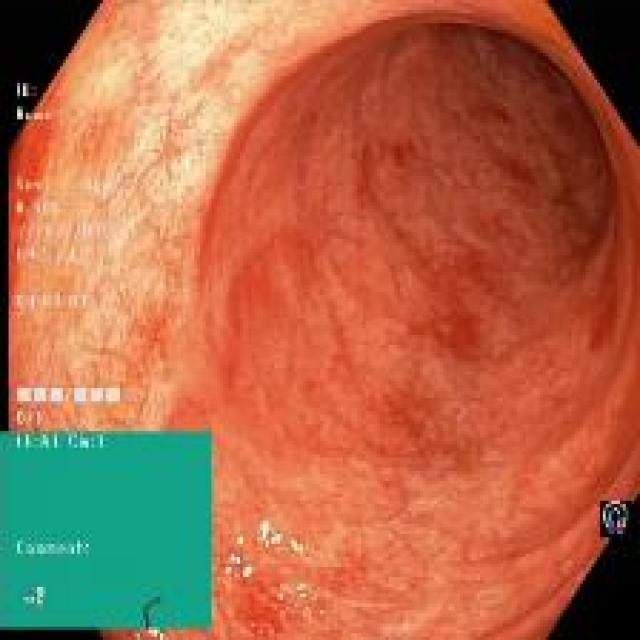ulcerative-colitis-grade-1: (10, 3, 640, 638)
